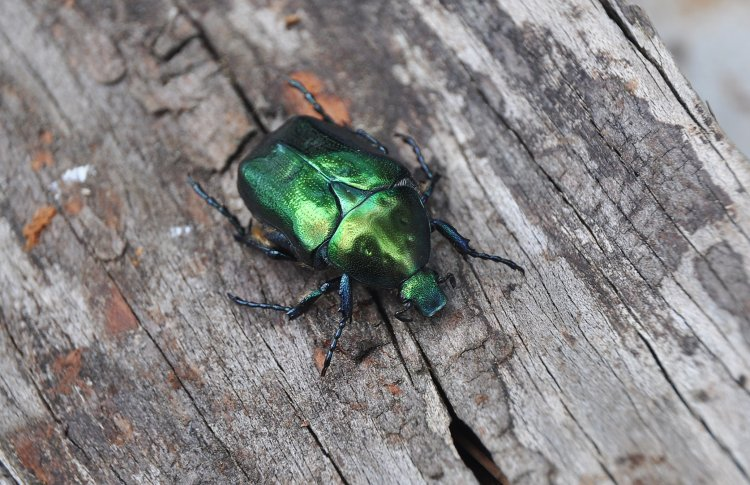Protaetia_angustata_angustata: (188, 67, 528, 380)
